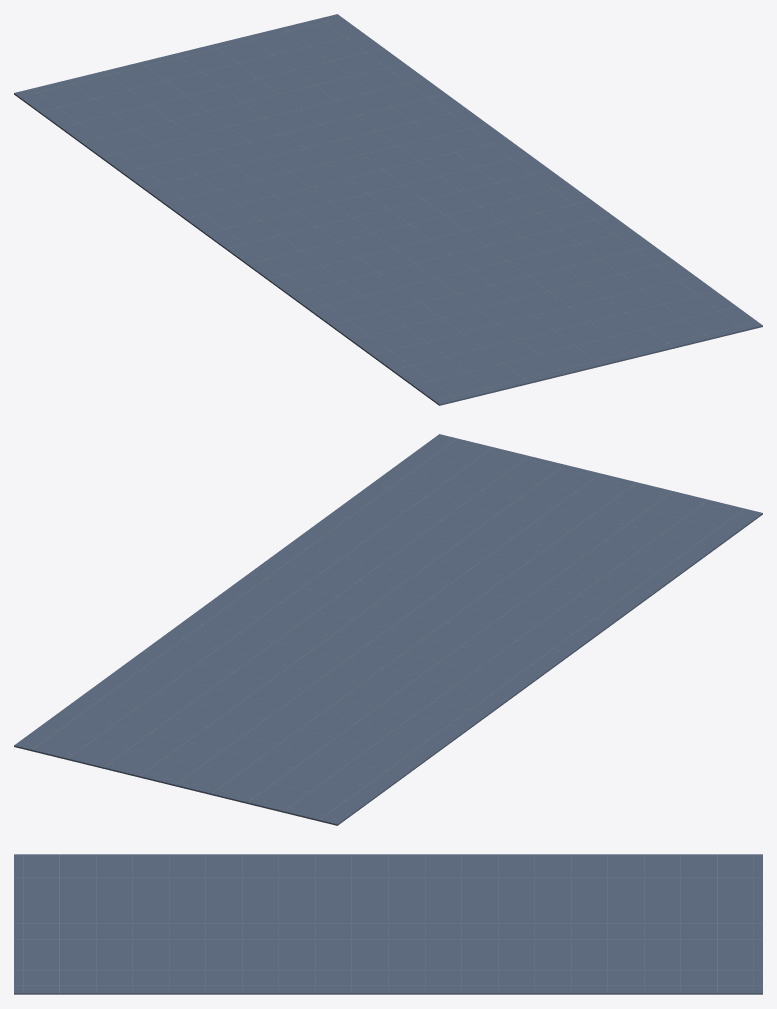
The model's file is library-floor.glb.
3 renders of one model, top to bottom at view 1: azimuth 30°, elevation 25°; view 2: azimuth 150°, elevation 25°; view 3: azimuth 270°, elevation 25°, orthographic. The views are drawn at different scales.
Visible parts, largest first — view 1: floor_base; view 2: floor_base; view 3: floor_base, seam_x_0, seam_x_12, seam_x_16, seam_x_-12, seam_x_4.
Part boxes in pixels (<box>): floor_base: <box>14,14,762,405</box>; floor_base: <box>14,434,762,825</box>; floor_base: <box>14,854,762,994</box>; seam_x_0: <box>14,923,762,923</box>; seam_x_12: <box>14,970,762,970</box>; seam_x_16: <box>14,985,762,985</box>; seam_x_-12: <box>14,877,762,877</box>; seam_x_4: <box>14,939,762,939</box>.
Size of the model in its own units: 36 by 0.17 by 82.
